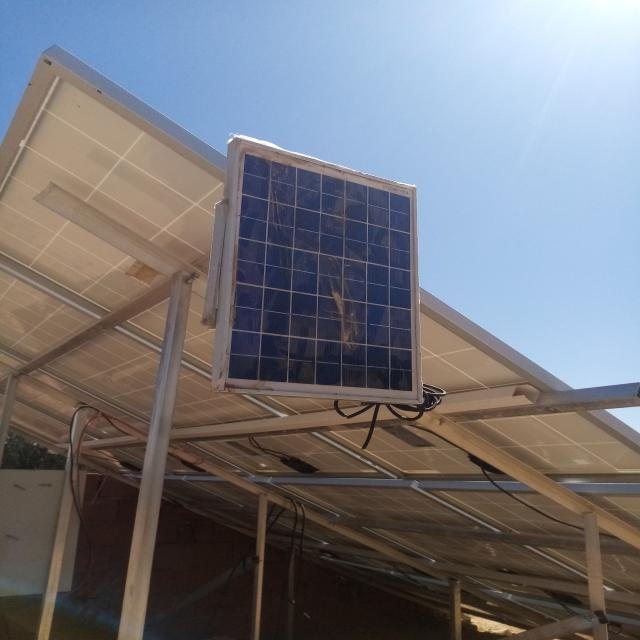faulty: (224, 139, 421, 401)
